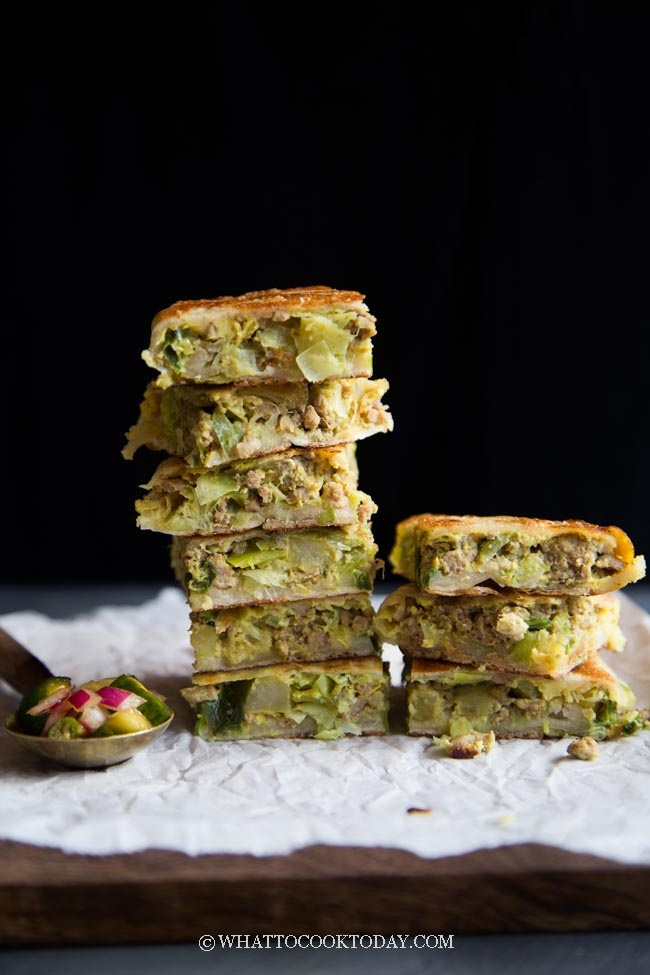martabak: (127, 285, 643, 756)
